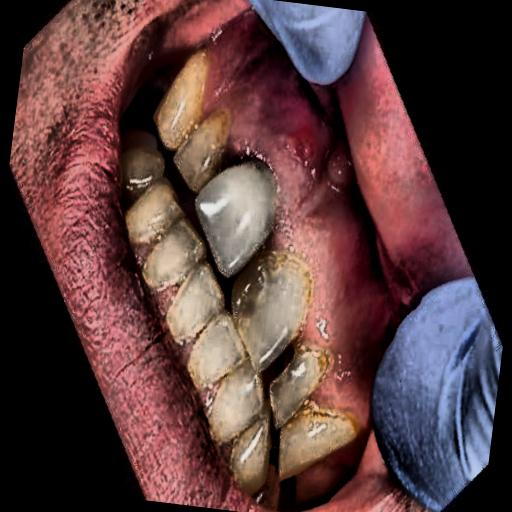Calculus: (182, 220, 368, 475), (114, 22, 231, 187)
